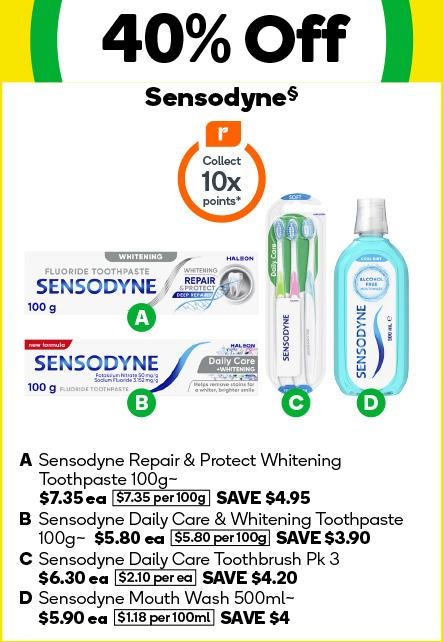description_block: (20, 436, 360, 489), (34, 504, 406, 550), (25, 546, 343, 591), (20, 591, 333, 635)
price_main: (26, 478, 116, 509), (28, 564, 118, 589), (32, 608, 115, 628), (91, 527, 170, 548)
product_image_block: (10, 236, 268, 329), (8, 335, 265, 418), (335, 190, 422, 428), (256, 186, 338, 427)
promo_text_block: (207, 479, 318, 508), (268, 521, 393, 546), (199, 563, 311, 590), (214, 607, 307, 635)
unit_price_block: (108, 605, 219, 634), (165, 523, 277, 550), (111, 486, 212, 510), (112, 564, 205, 590)
